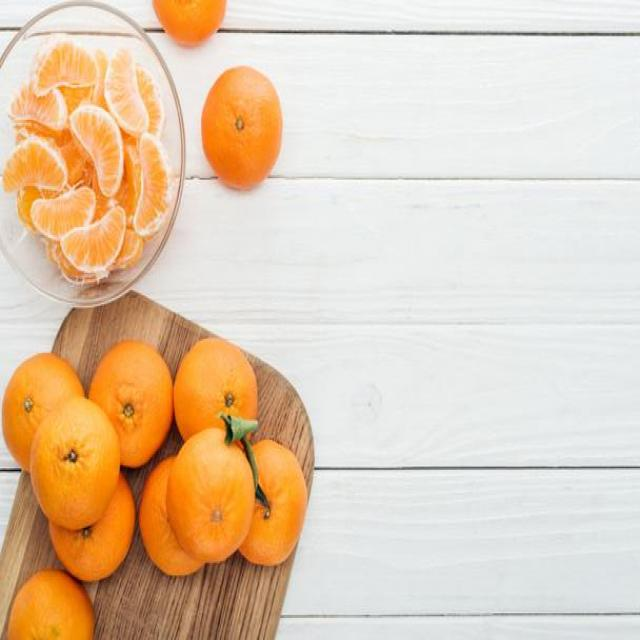10_tangerine: (224, 429, 319, 574), (32, 393, 123, 538), (166, 425, 256, 564), (195, 60, 286, 194), (89, 334, 176, 470), (4, 348, 88, 471), (174, 333, 261, 449), (138, 453, 208, 575), (5, 561, 104, 640), (152, 0, 230, 44)
